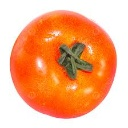tomato: (10, 10, 118, 118)
